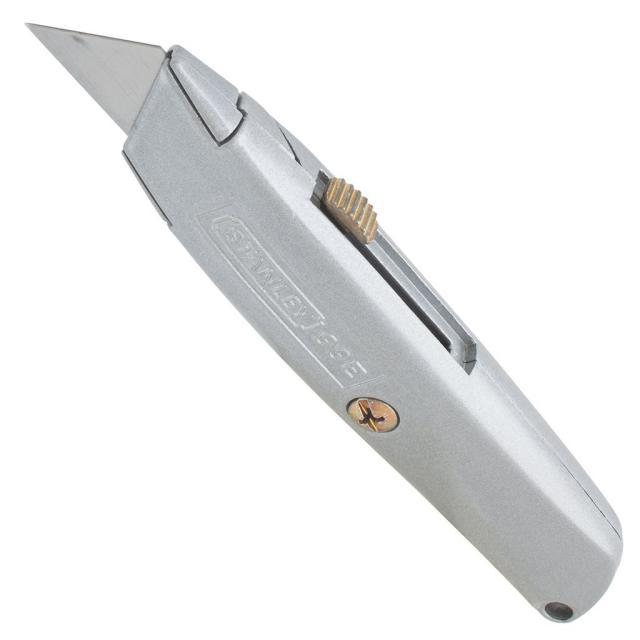estilete: (28, 24, 622, 622)
